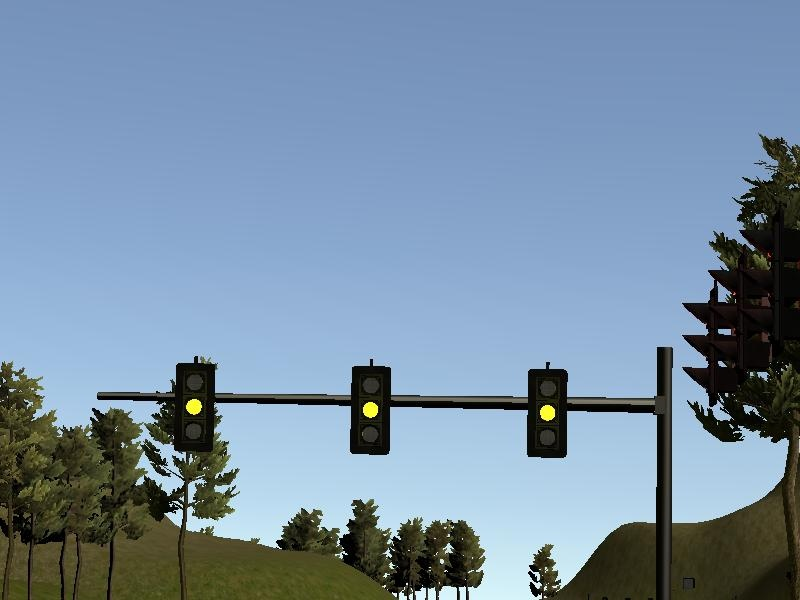YELLOW: (349, 366, 390, 457), (174, 360, 215, 451), (526, 366, 567, 457)
